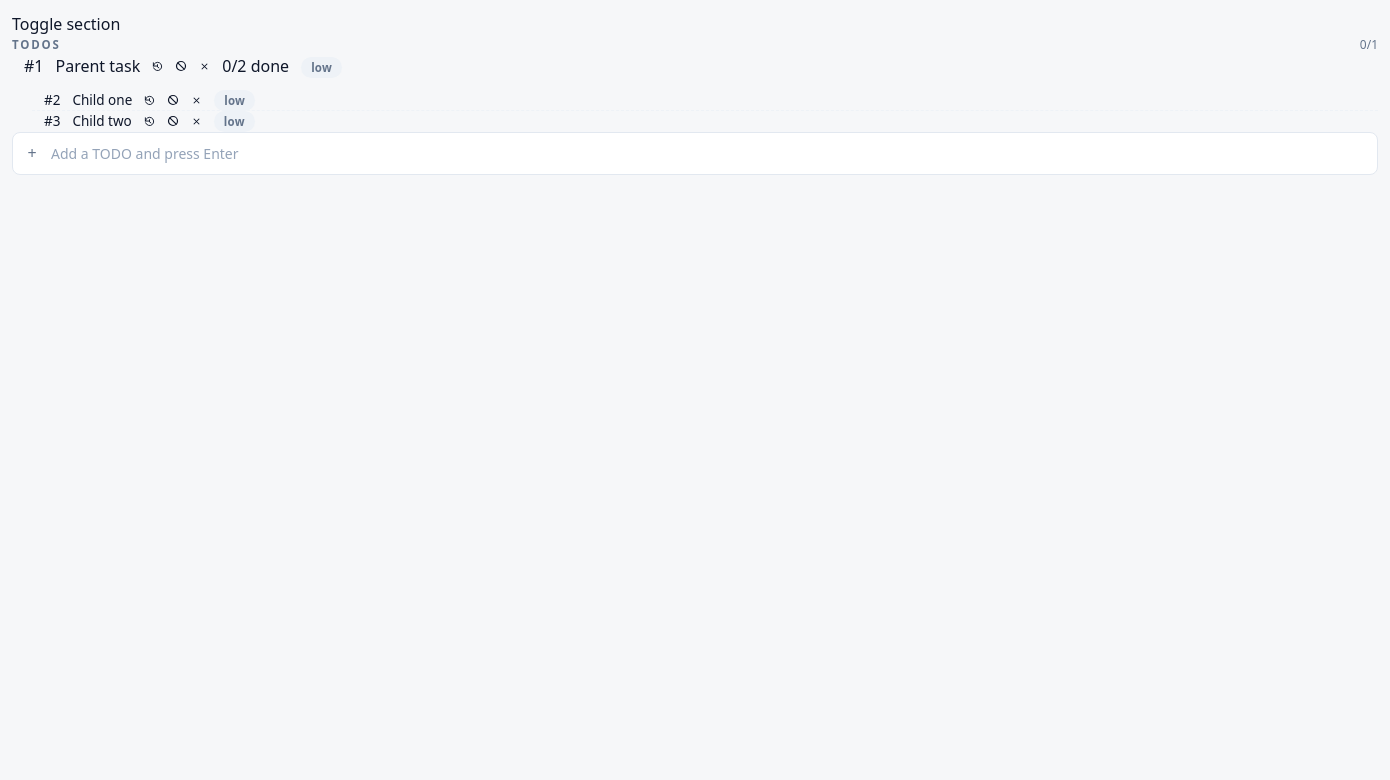
TodosSection undoable delete › shows an error toast and restores the row when the server rejects the delete
Click the 1st button named "Remove from day": (197, 100) [191,95,202,106]
Wait 6000 ms
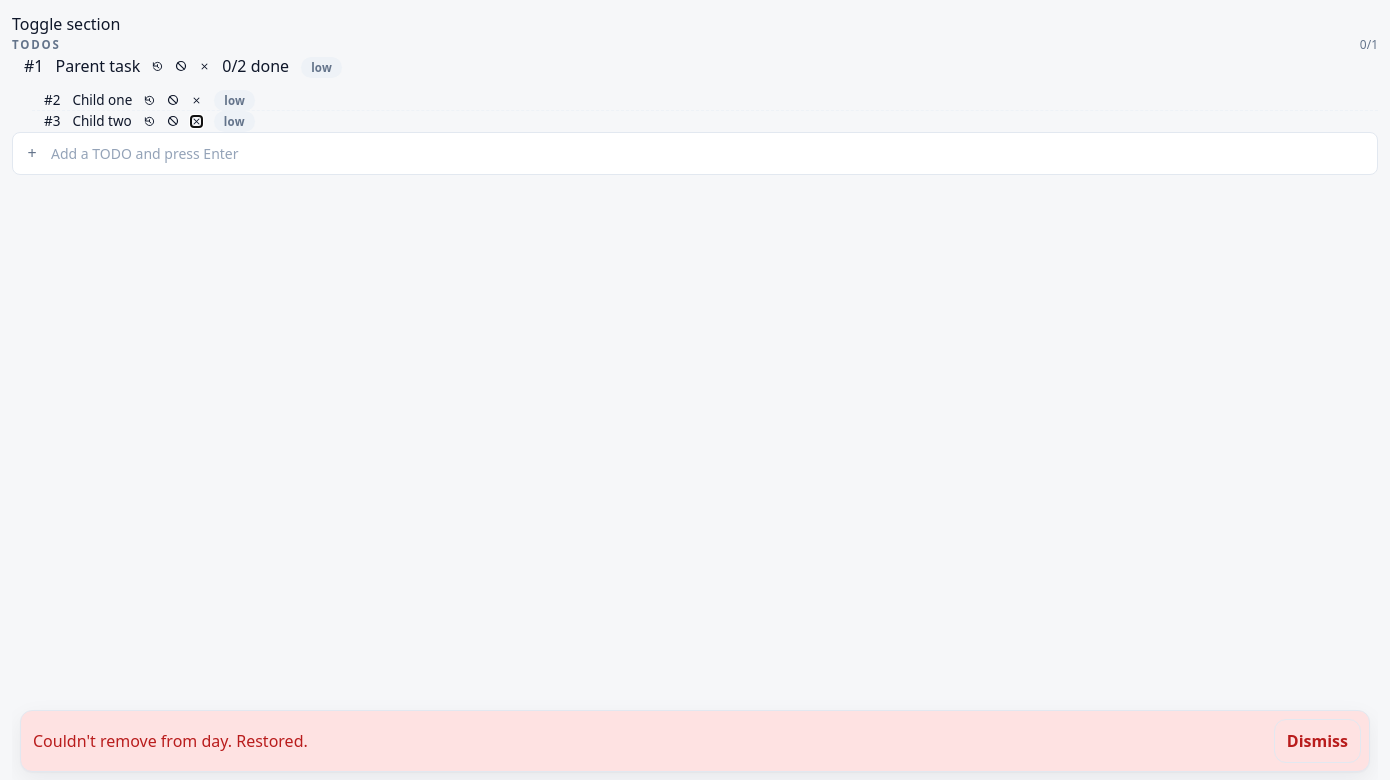
Check: the button "Child one" is shown, box [72,90,132,110]
Check: the message shows "Couldn't remove from day. Restored.", box [33,730,308,752]
